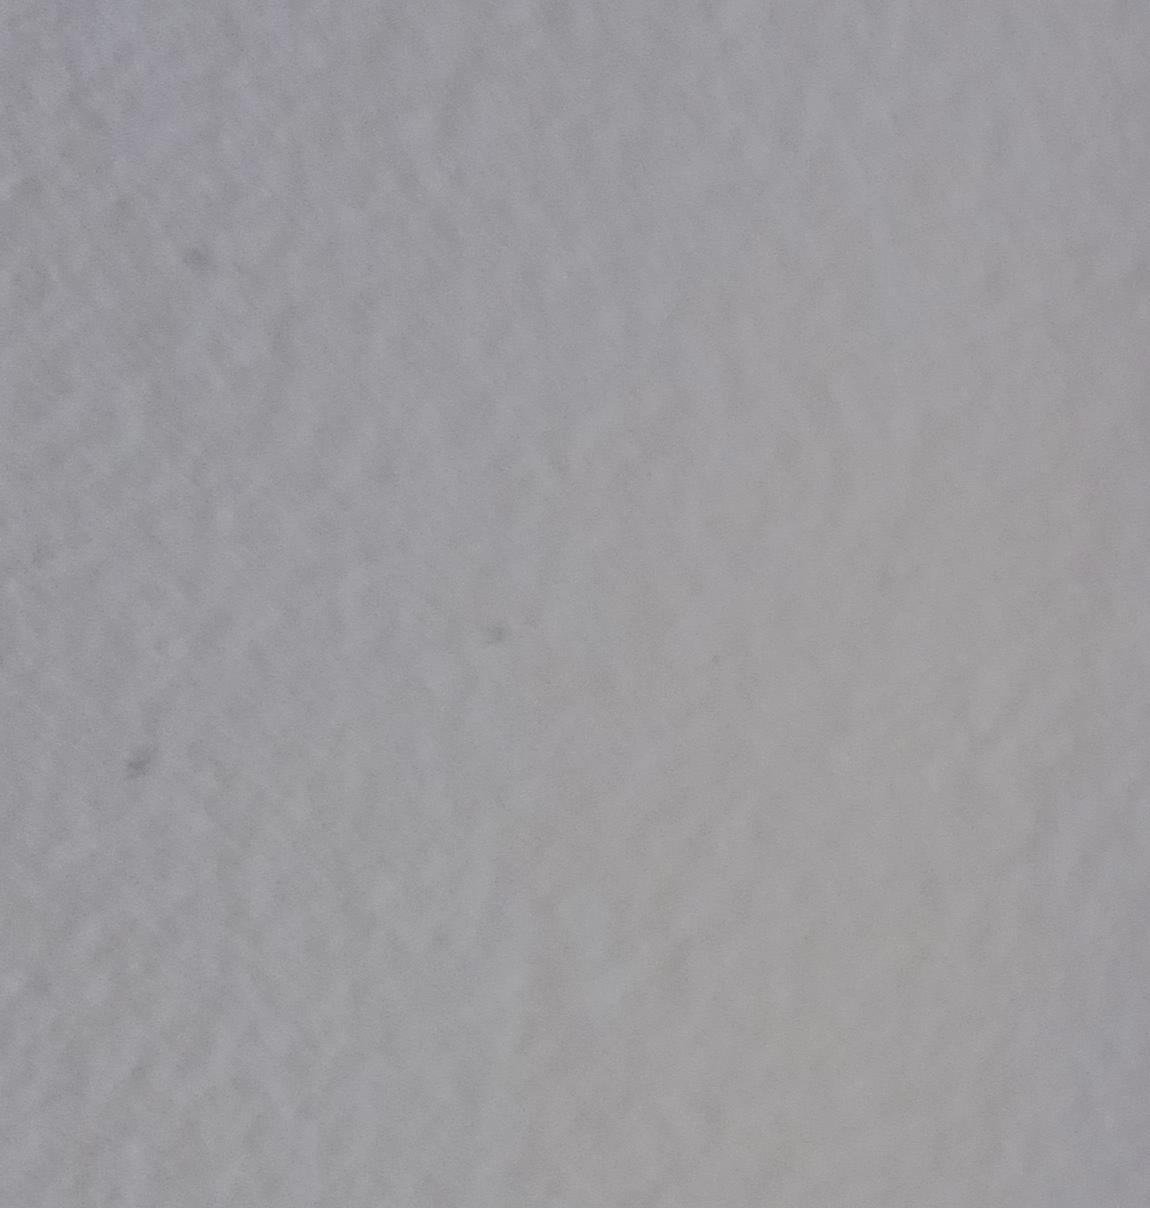Chip: (1, 249, 841, 1208)
